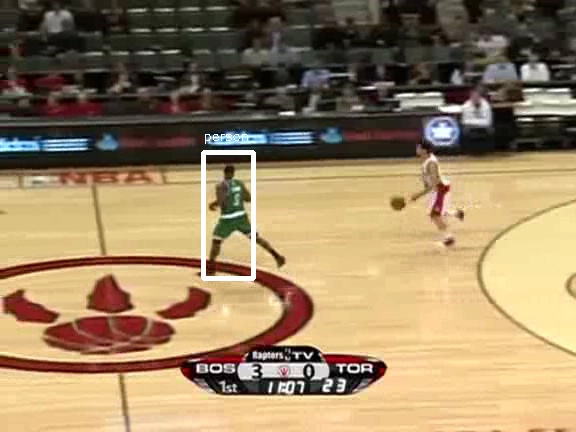person: (218, 169, 252, 250), (217, 169, 251, 250), (219, 169, 253, 250), (218, 168, 252, 249), (218, 170, 252, 251)
target_negative: (61, 206, 332, 310), (379, 294, 571, 383), (333, 120, 403, 335), (503, 208, 535, 360), (26, 419, 115, 431)
